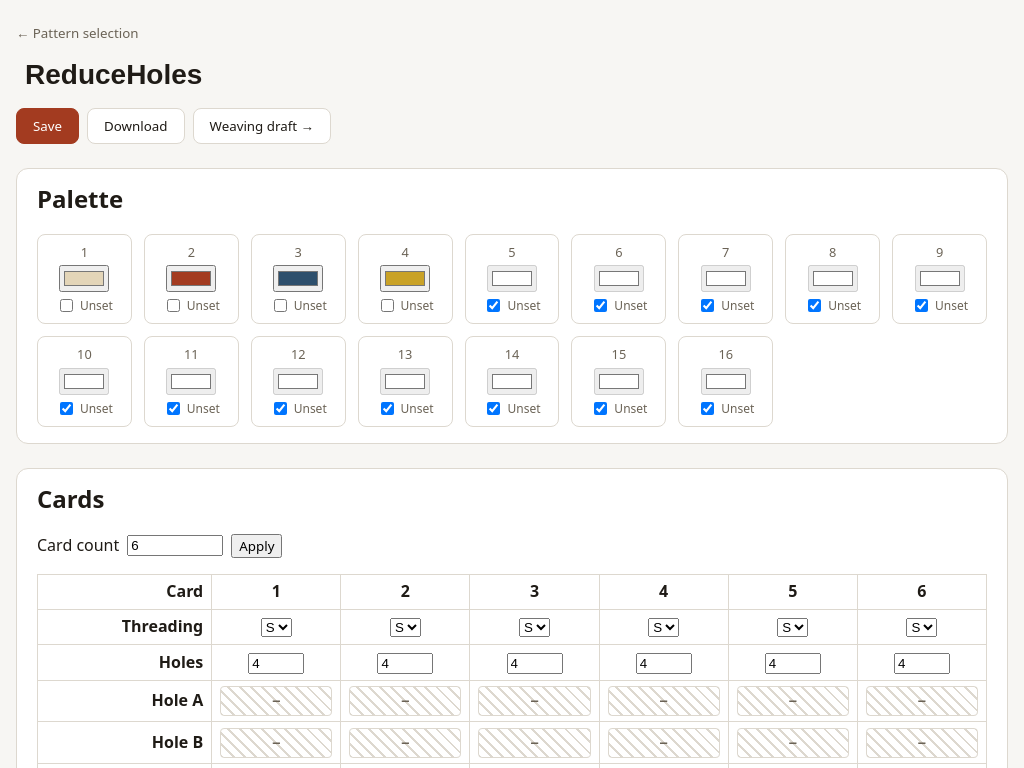
Test: EditPatternPage › reducing a card's hole count via the Holes input prompts and applies on confirm
Check: the field showing "ReduceHoles" is shown, box [16, 54, 1008, 96]
Replace the text in the number field named "Card 1 holes" with "3": [276, 663] box [248, 653, 304, 674]
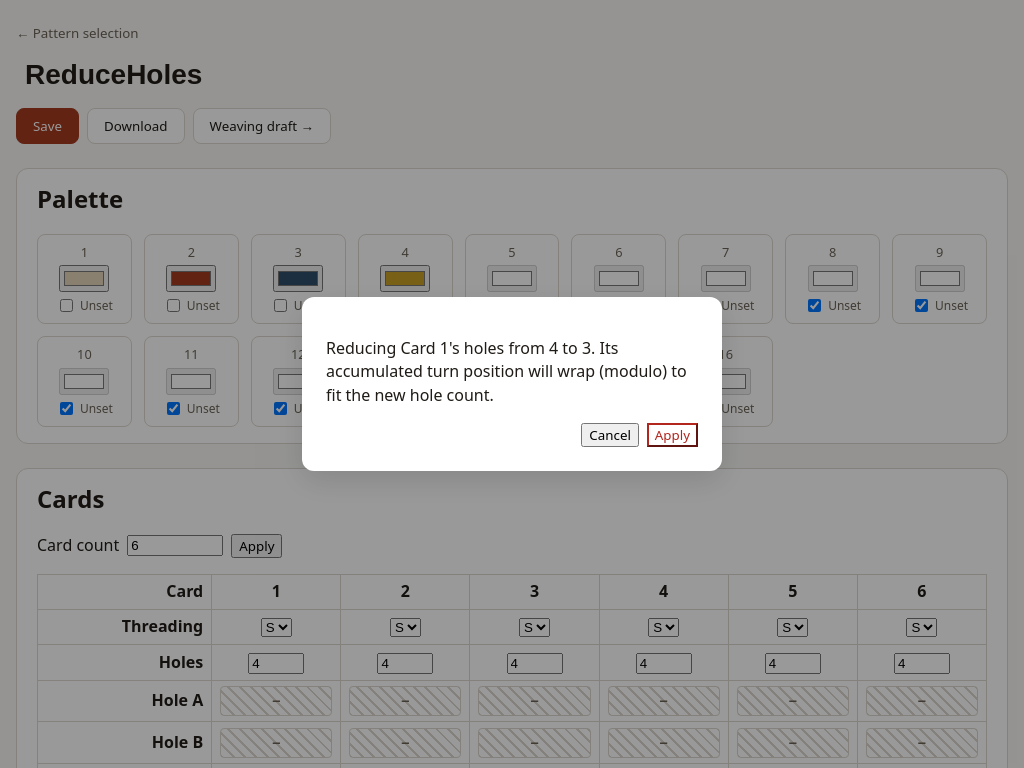
Check: the text "Reducing Card 1's holes" is shown, box [326, 337, 687, 406]
Click the button "Apply": [672, 435] box [647, 423, 698, 447]
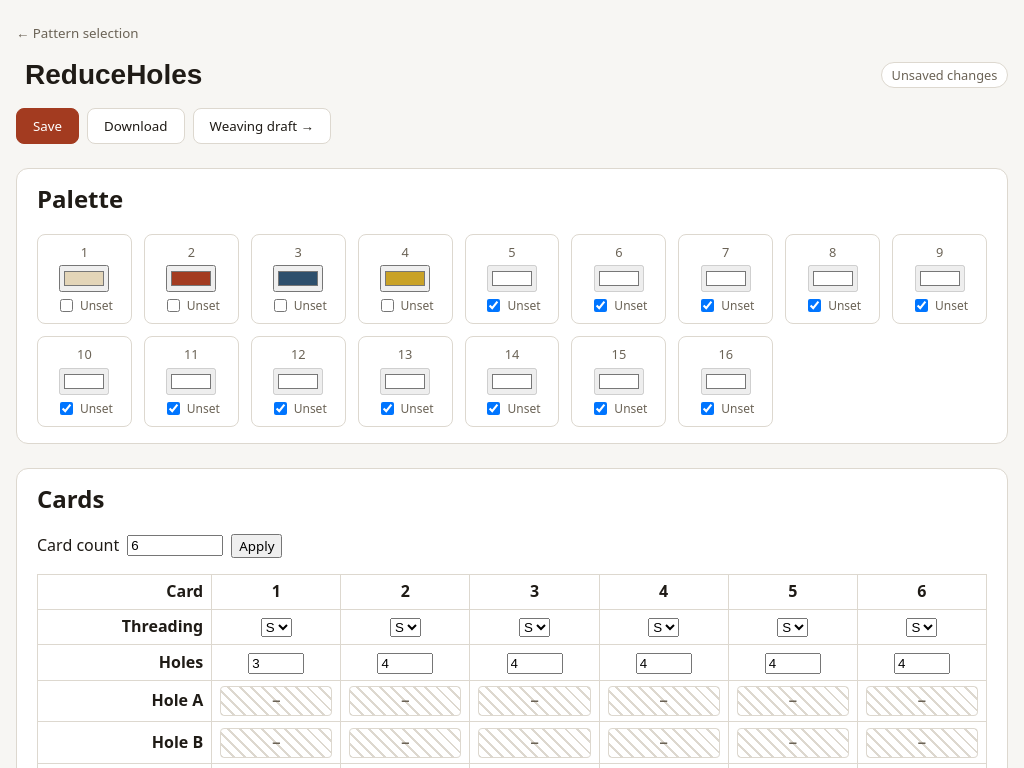
Check: the dialog is gone
